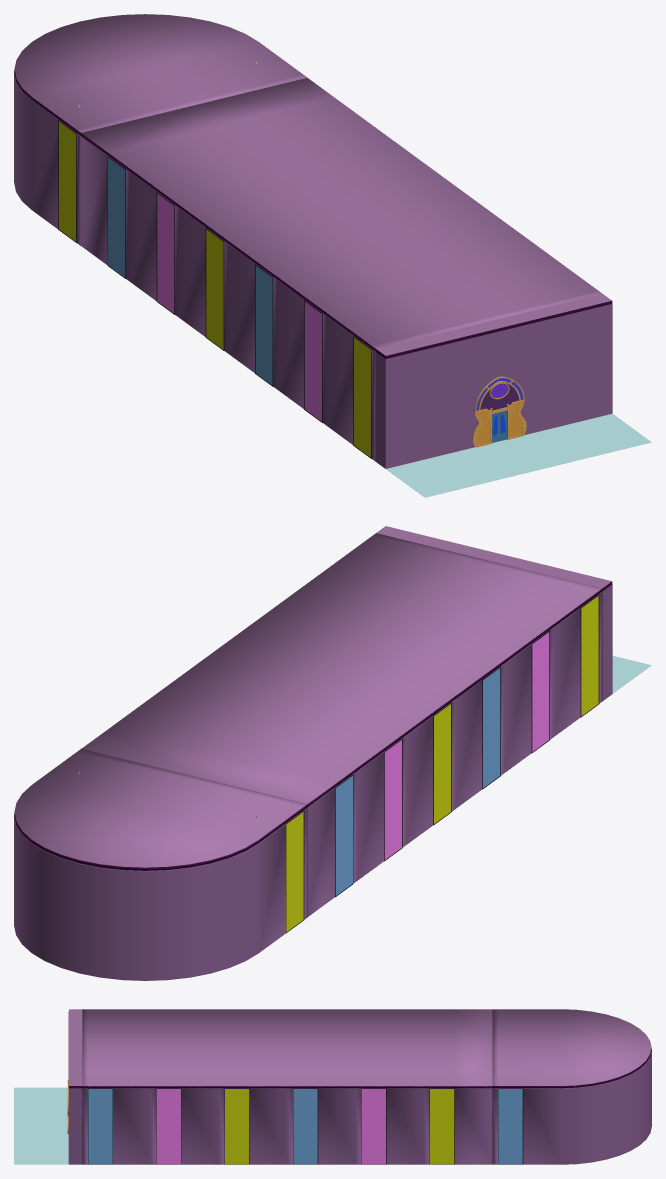
The model's file is Trono.fbx.
The picture shows the model from 3 angles, top to bottom: view 1: azimuth 30°, elevation 25°; view 2: azimuth 150°, elevation 25°; view 3: azimuth 270°, elevation 25°; orthographic projection. The views are drawn at different scales.
Visible parts, largest first — view 1: throneroom, hall_end, glass_yellow_-x, glass_blue_-x, glass_pink_-x, doorway; view 2: throneroom, glass_yellow_-x, glass_pink_-x, glass_blue_-x, hall_end; view 3: throneroom, hall_end, glass_blue_+x, glass_pink_+x, glass_yellow_+x.
Boxes of the visible parts, x1,y1,x2,y2 form: throneroom: (14, 14, 601, 461); hall_end: (375, 293, 651, 497); glass_yellow_-x: (58, 120, 371, 458); glass_blue_-x: (107, 156, 273, 386); glass_pink_-x: (156, 192, 322, 422); doorway: (472, 376, 526, 447); throneroom: (14, 533, 602, 980); glass_yellow_-x: (286, 595, 599, 933); glass_pink_-x: (384, 630, 549, 861); glass_blue_-x: (335, 666, 500, 897); hall_end: (376, 526, 651, 700); throneroom: (82, 1009, 651, 1164); hall_end: (14, 1009, 82, 1164); glass_blue_+x: (88, 1088, 523, 1164); glass_pink_+x: (156, 1088, 386, 1164); glass_yellow_+x: (224, 1088, 454, 1164).
Size of the model in its own units: 80.27 by 38.82 by 280.
